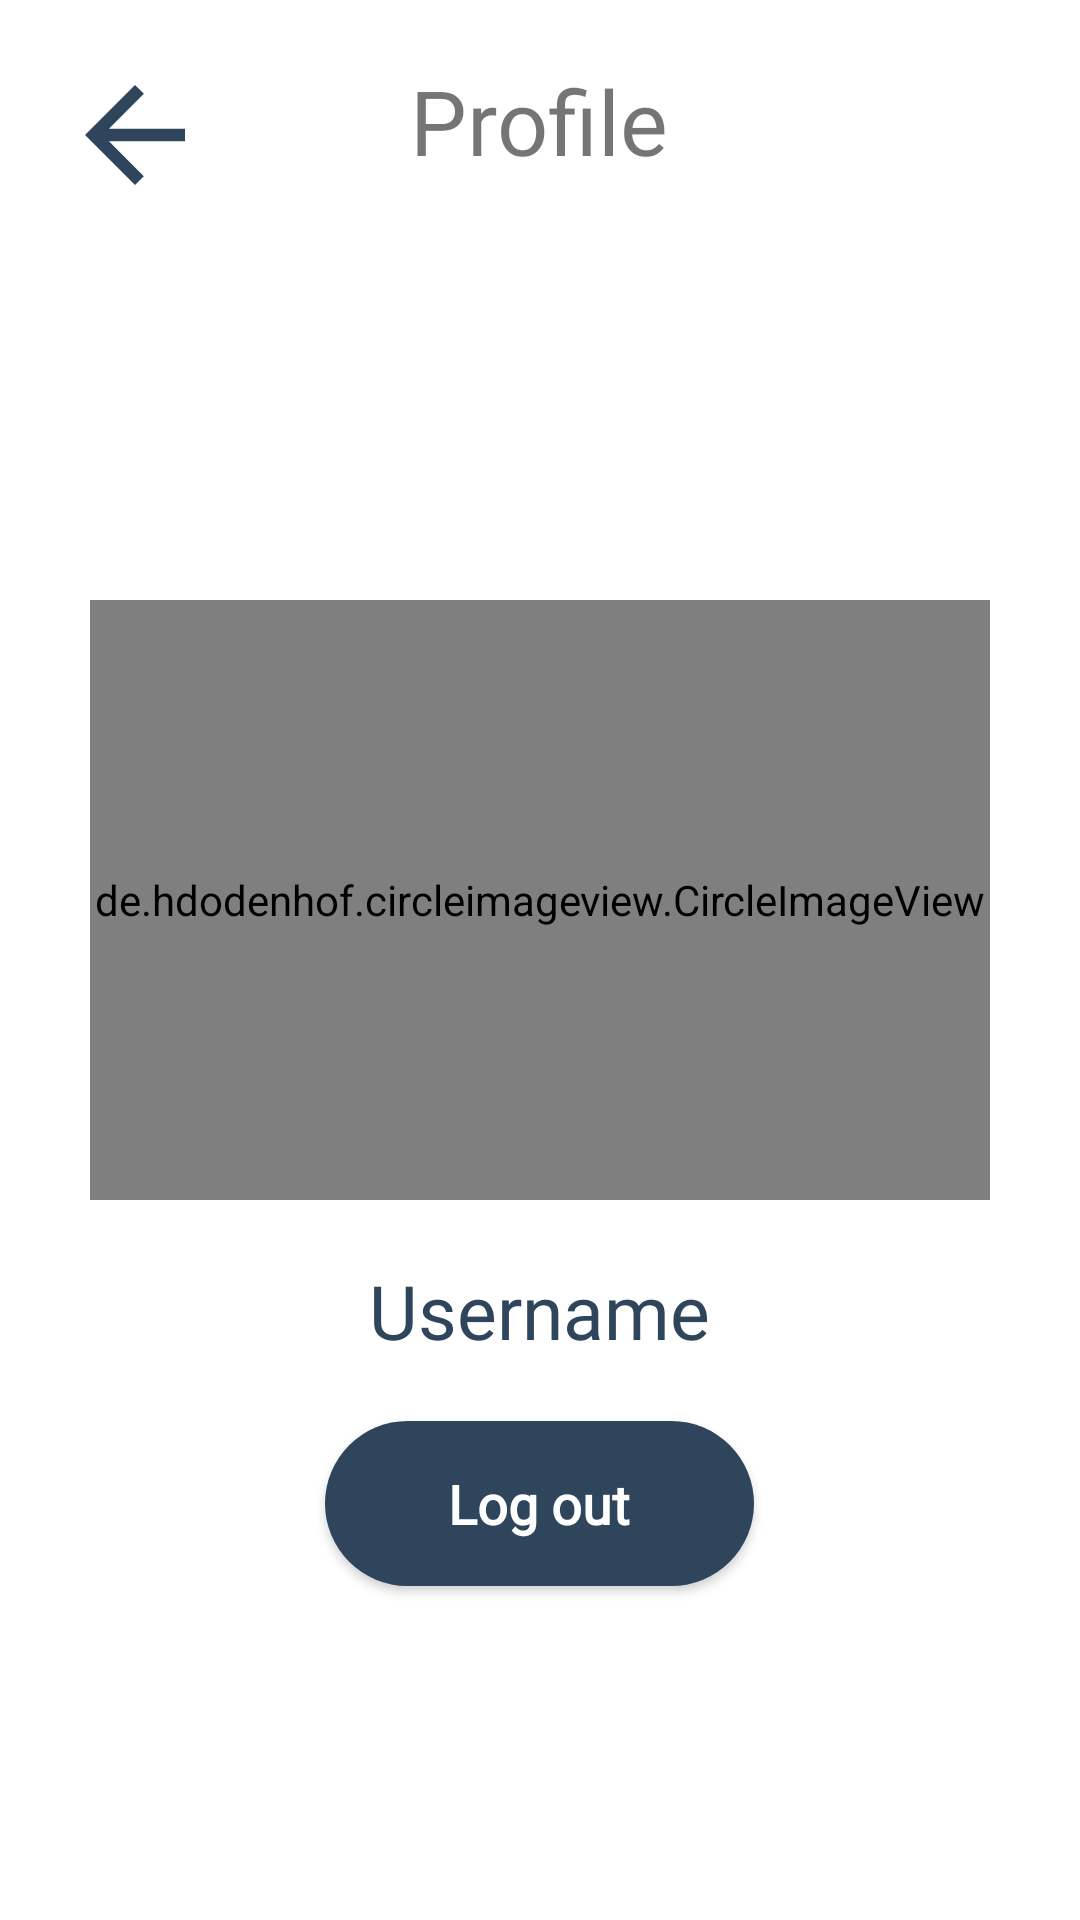

Icon click points for this 1080*1920 phone screenshot, format (x=x, y=y):
arrow back: (x=135, y=135)
